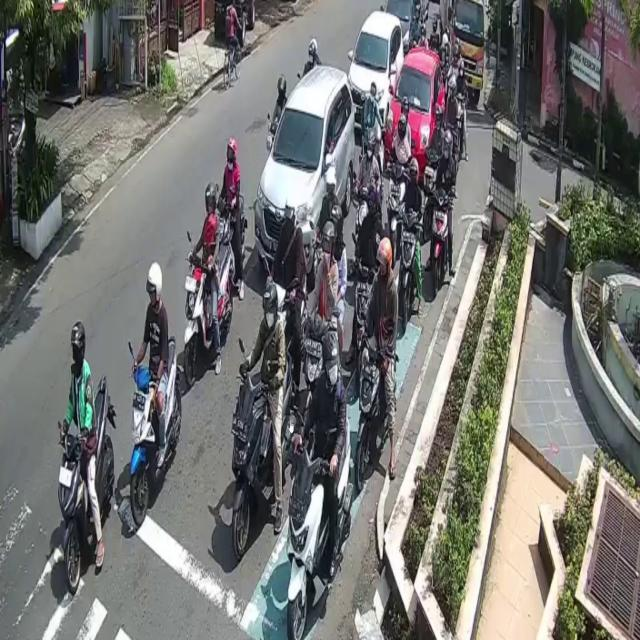bus: (287, 411, 353, 640), (57, 376, 114, 596), (233, 360, 295, 559), (130, 332, 182, 527), (181, 240, 231, 385), (359, 343, 399, 489), (397, 212, 418, 333), (430, 191, 450, 300)
motorcycle: (255, 63, 356, 273), (386, 46, 446, 180), (349, 10, 404, 126), (384, 0, 423, 52)
truck: (438, 0, 483, 102)
